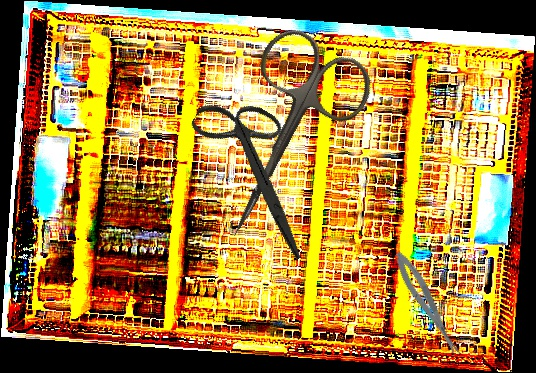Iris Scissors: (181, 20, 383, 262), (158, 81, 356, 261)
Micro Scissor: (390, 248, 464, 361)
